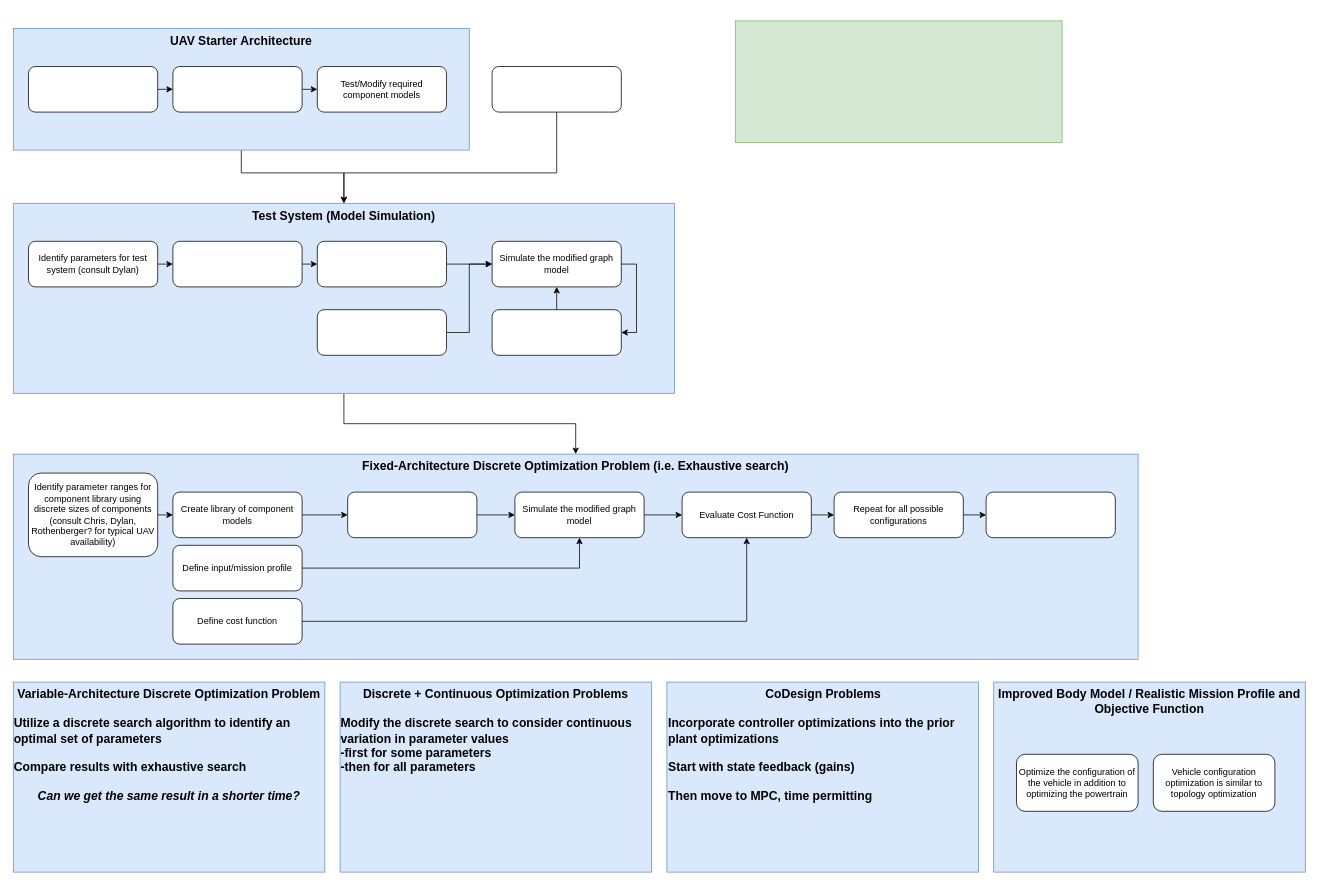
The diagram is 1319 pixels wide and 885 high, and some of its shapes have lost their labels. Each missing label, with the centre of its shape:
Assemble component models into system graph model: point (381, 264)
Assemble components into system graph model: point (412, 514)
Create component graph models from parameters: point (237, 264)
Debug/Improve simulation process: point (556, 332)
Define starter UAV architecture: point (93, 89)
Flow Chart for Graph-based Design Optimization of UAV Systems .: point (898, 81)
Get Graph Models Tools up and running: point (556, 89)
Identify inputs for system simulation (consult Dylan): point (381, 332)
Identify Optimal Configuration from set of possible results: point (1050, 514)
Identify required component models: point (237, 89)
